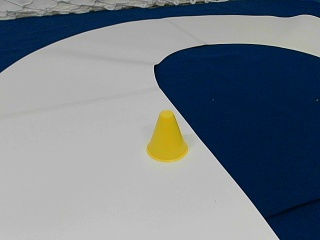cone: (147, 111, 188, 162)
